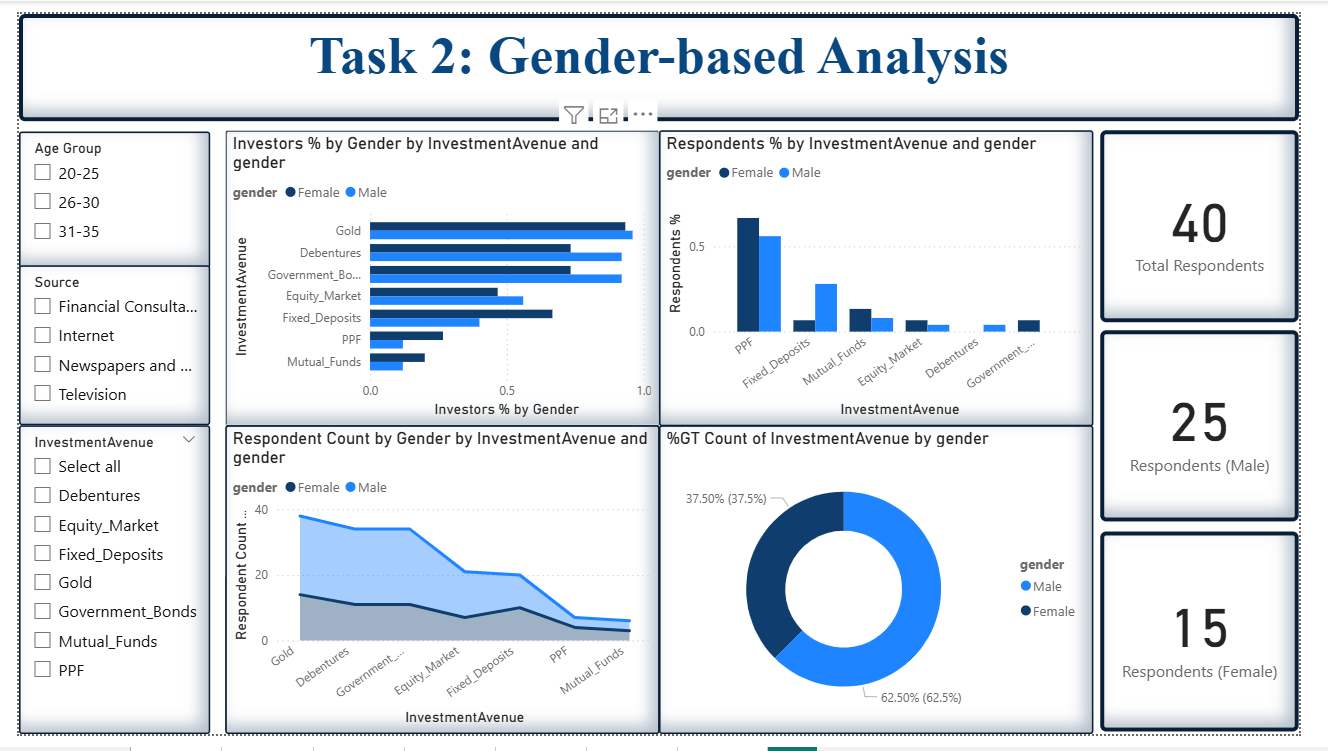

Layout of this report page (visuals, bound fields, positions):
{"tool":"powerbi","page":{"name":"Task 2","canvas":[1280,720],"ordinal":1},"visuals":[{"type":"slicer","fields":{"Values":["Cognifyz_Dataset.InvestmentAvenue","Cognifyz_Dataset.Source"]},"box":[205.7,562.9,191.4,154.3],"z":2000},{"type":"textbox","box":[0,0,1280,107.5],"z":3000},{"type":"slicer","fields":{"Values":["Cognifyz_Dataset.Age Group"]},"box":[0,117.1,191.4,137.1],"z":4000},{"type":"clusteredBarChart","fields":{"Category":["Cognifyz_Dataset.InvestmentAvenue"],"Y":["Cognifyz_Dataset.Investors % by Gender"],"Series":["Cognifyz_Dataset.gender"]},"box":[205.7,115.7,434.3,295.7],"z":5000},{"type":"clusteredColumnChart","fields":{"Category":["Cognifyz_Dataset.InvestmentAvenue"],"Series":["Cognifyz_Dataset.gender"],"Y":["Cognifyz_Dataset.Respondents %"]},"box":[640,115.7,434.3,295.7],"z":6000},{"type":"stackedAreaChart","fields":{"Category":["Cognifyz_Dataset.InvestmentAvenue"],"Series":["Cognifyz_Dataset.gender"],"Y":["Cognifyz_Dataset.Respondent Count by Gender"]},"box":[205.7,411.4,434.3,308.6],"z":7000},{"type":"donutChart","fields":{"Category":["Cognifyz_Dataset.gender"],"Y":["CountNonNull(Cognifyz_Dataset.InvestmentAvenue)"]},"box":[640,411.4,434.3,308.6],"z":8000},{"type":"card","fields":{"Values":["Cognifyz_Dataset.Total Respondents"]},"box":[1081.4,115.7,198.6,192],"z":9000},{"type":"card","fields":{"Values":["Cognifyz_Dataset.Respondents (Female)"]},"box":[1081.4,517.1,198.6,200],"z":10000},{"type":"card","fields":{"Values":["Cognifyz_Dataset.Respondents (Male)"]},"box":[1081.4,315.7,198.6,191.4],"z":11000},{"type":"slicer","fields":{"Values":["Cognifyz_Dataset.InvestmentAvenue"]},"box":[0,411.4,191.4,308.6],"z":12000},{"type":"slicer","fields":{"Values":["Cognifyz_Dataset.Source"]},"box":[0,251.4,191.4,160],"z":13000}]}

Visuals, with their boxes in screenshot pixels (x1, y1, x2, y2), scaled from the page's 1280x720 canvas onto the 1328x751 screenshot:
slicer - Cognifyz_Dataset.InvestmentAvenue x Cognifyz_Dataset.Source: [213,587,412,748]
textbox: [0,0,1327,112]
slicer - Cognifyz_Dataset.Age Group: [0,122,199,265]
clusteredBarChart - Cognifyz_Dataset.InvestmentAvenue x Cognifyz_Dataset.Investors % by Gender: [213,121,664,429]
clusteredColumnChart - Cognifyz_Dataset.InvestmentAvenue x Cognifyz_Dataset.gender: [664,121,1115,429]
stackedAreaChart - Cognifyz_Dataset.InvestmentAvenue x Cognifyz_Dataset.gender: [213,429,664,750]
donutChart - Cognifyz_Dataset.gender x CountNonNull(Cognifyz_Dataset.InvestmentAvenue): [664,429,1115,750]
card - Cognifyz_Dataset.Total Respondents: [1122,121,1327,321]
card - Cognifyz_Dataset.Respondents (Female): [1122,539,1327,748]
card - Cognifyz_Dataset.Respondents (Male): [1122,329,1327,529]
slicer - Cognifyz_Dataset.InvestmentAvenue: [0,429,199,750]
slicer - Cognifyz_Dataset.Source: [0,262,199,429]
